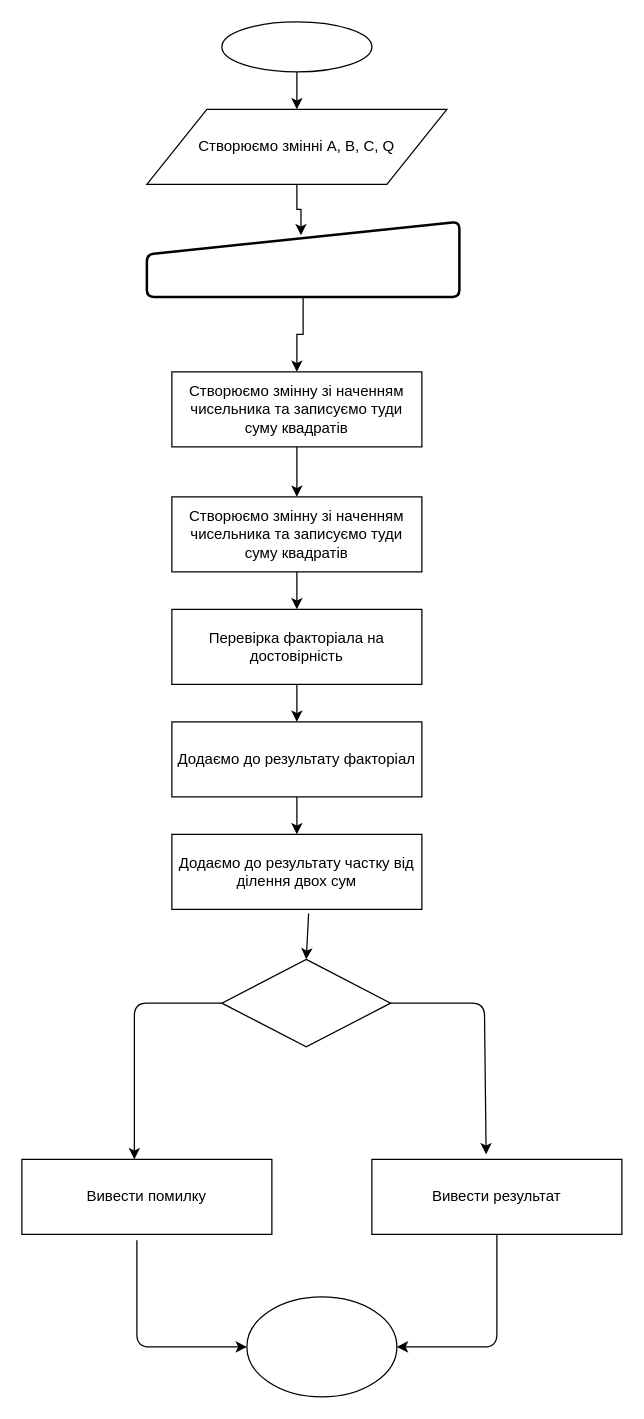
Some shapes in this 644 by 1419 pixel diagram are drawn without their labels. The shapes that lost their labels are listed below. From the top down, each one's centre as x and y in pixels, then its label:
At point (296, 46): "BEGIN".
At point (302, 259): "Зчитуємо з клавіатури значення А, B, C".
At point (306, 1002): "Чи дійсним був факторіал ?".
At point (321, 1346): "КІНЕЦЬ".
